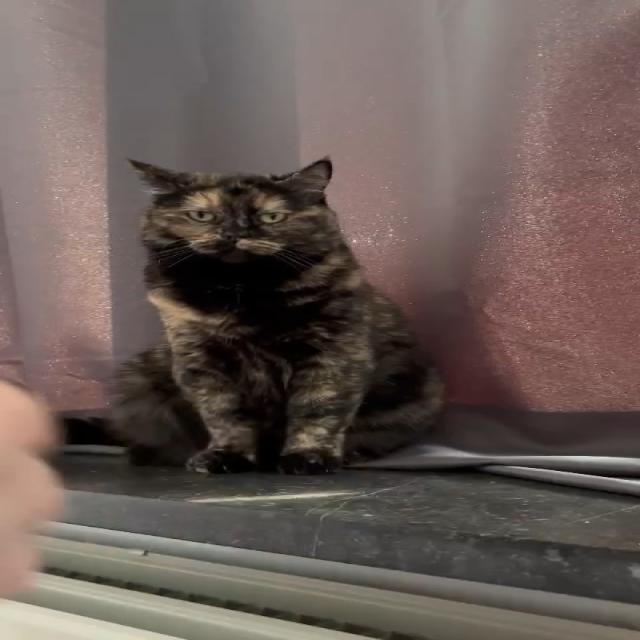authorized: (105, 154, 447, 475)
